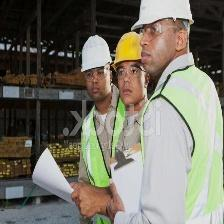Person: (130, 1, 224, 224), (70, 33, 113, 185), (114, 24, 146, 149)
helmet: (130, 1, 198, 39), (81, 35, 113, 78), (113, 32, 141, 68)
vest: (162, 65, 221, 220), (78, 105, 110, 180)
